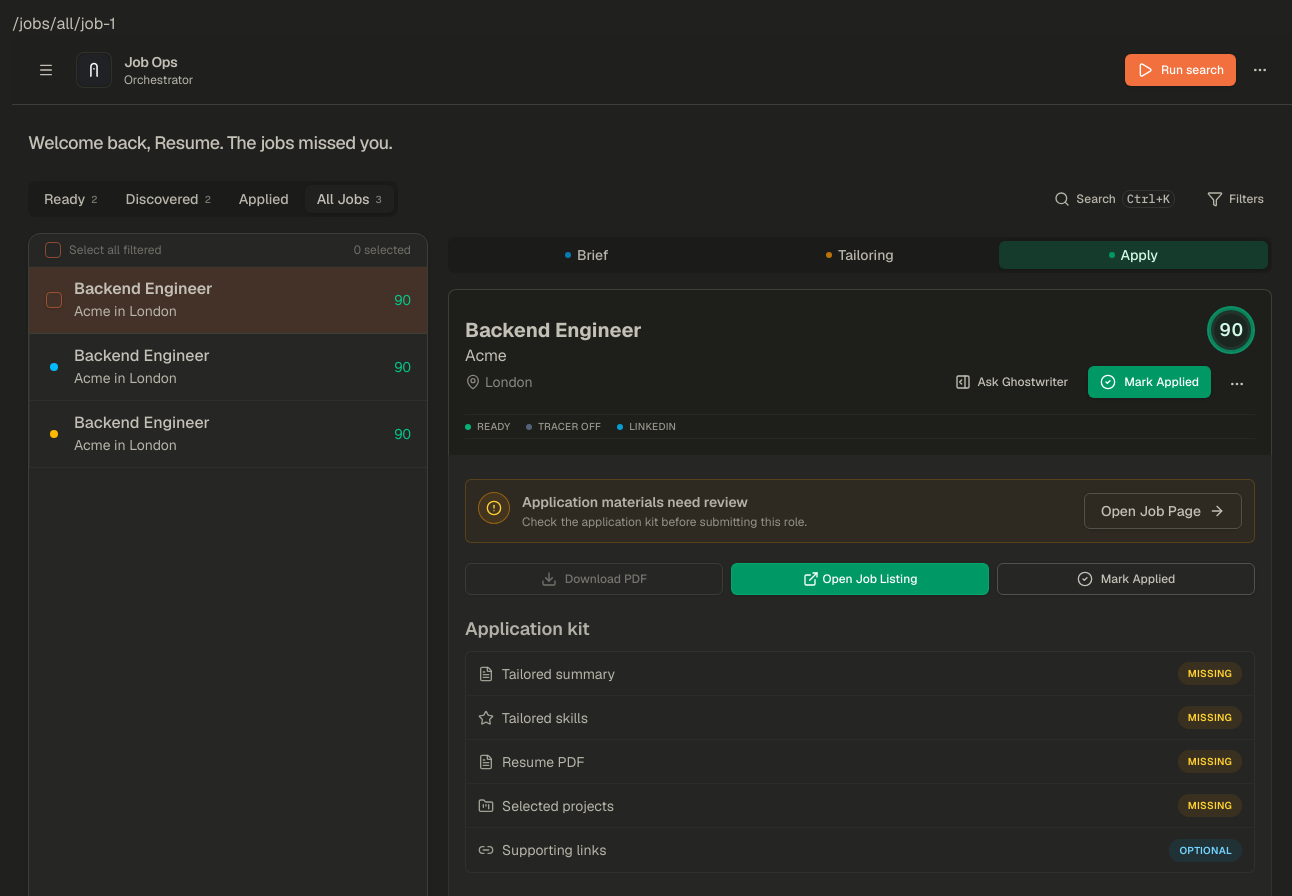
OrchestratorPage › syncs job selection to the URL
Click the button with test id "select-job-2" at point(142, 356), box top-left (74, 346), bottom-right (411, 388)
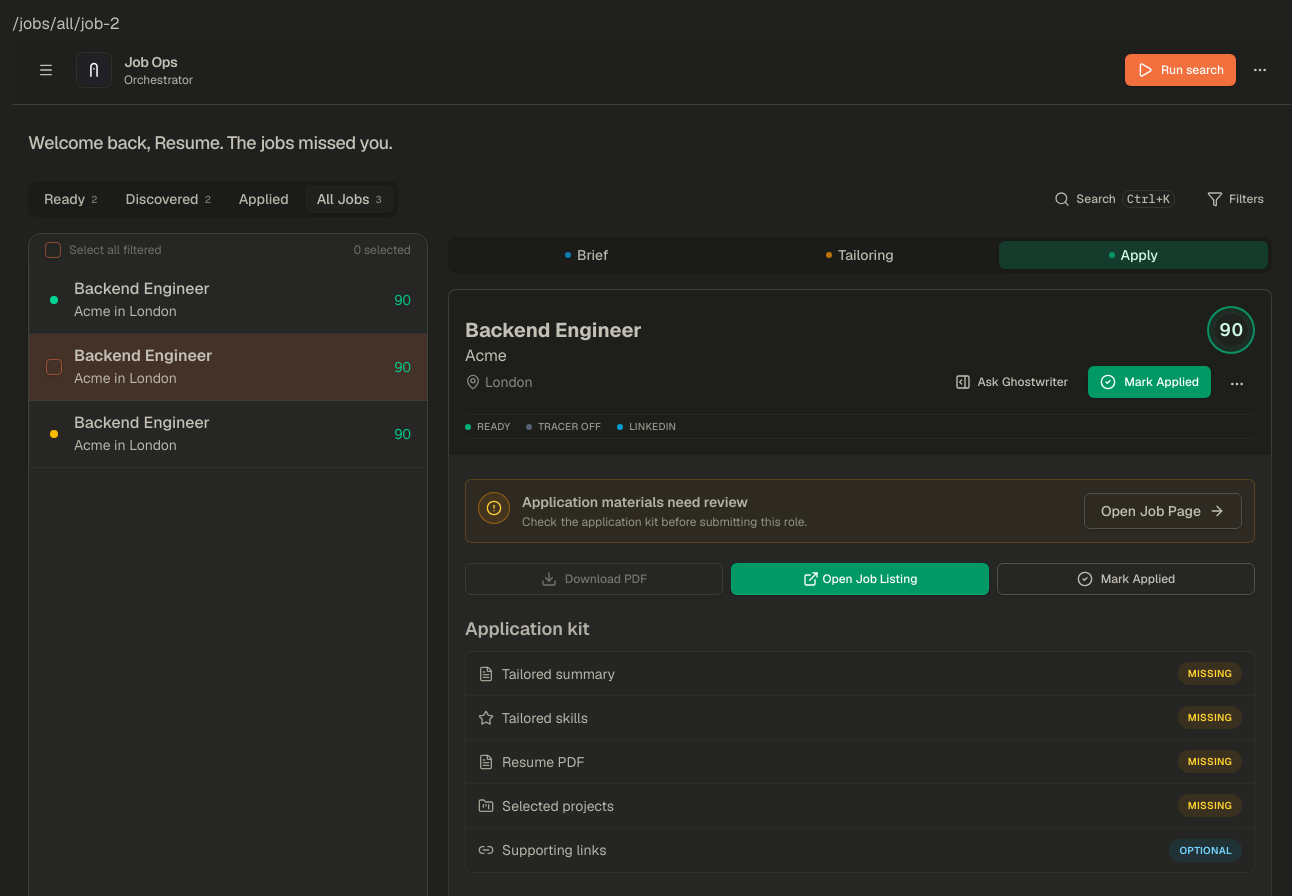
Expected: the text with test id "location" shows "/all/job-2", top-left (12, 13), bottom-right (120, 34)
